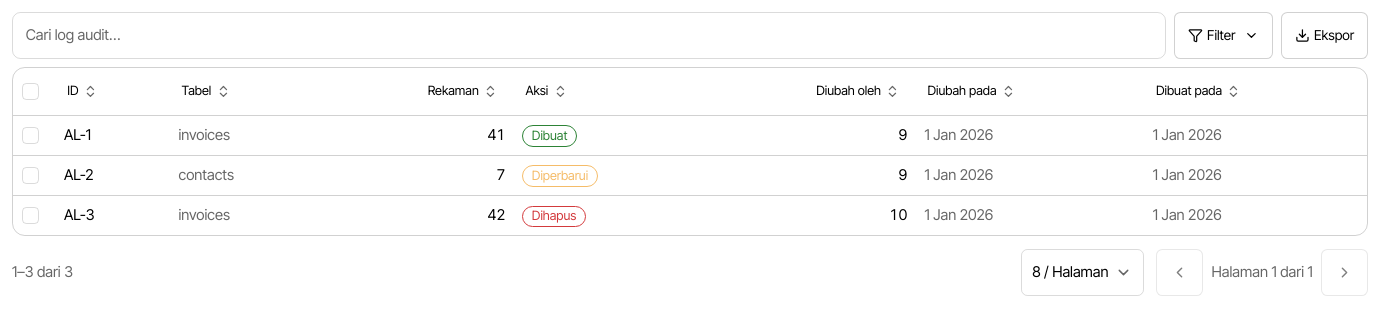
Test case: AuditLogsSection › filters logs by search
Expected: the text "AL-1" is shown, [64,126,91,144]
Type "contacts" into the search field with placeholder "Cari log audit…" at (589, 35), box [12,12,1166,59]
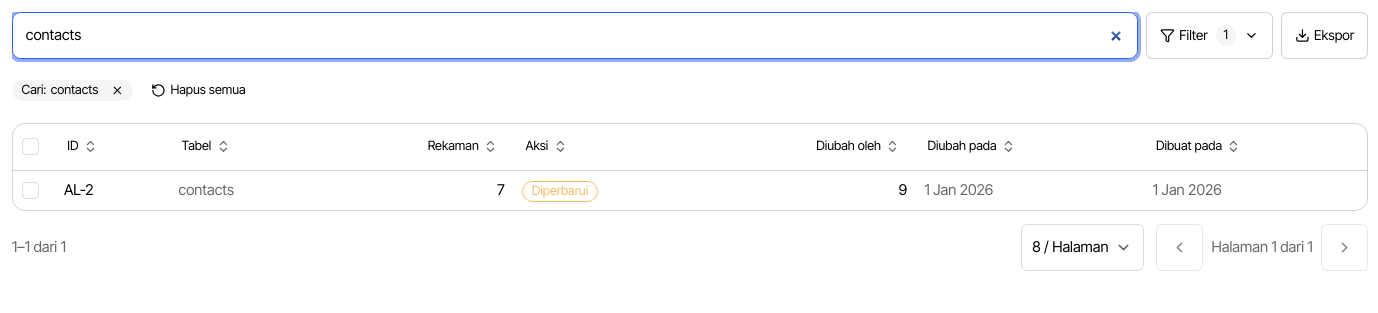
Expected: the text "AL-2" is shown, [64,181,94,199]
Expected: the text "AL-1" is gone
